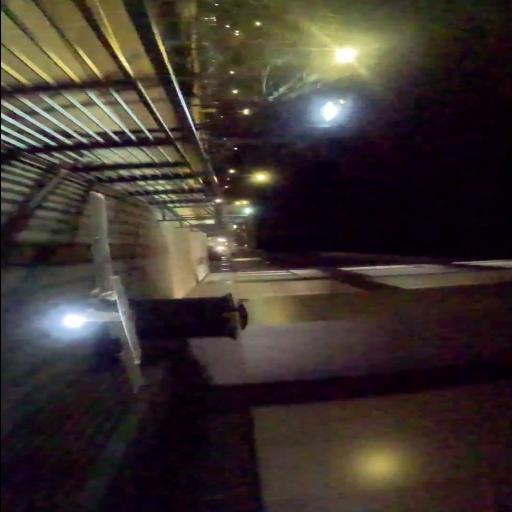uav: (43, 188, 147, 392)
